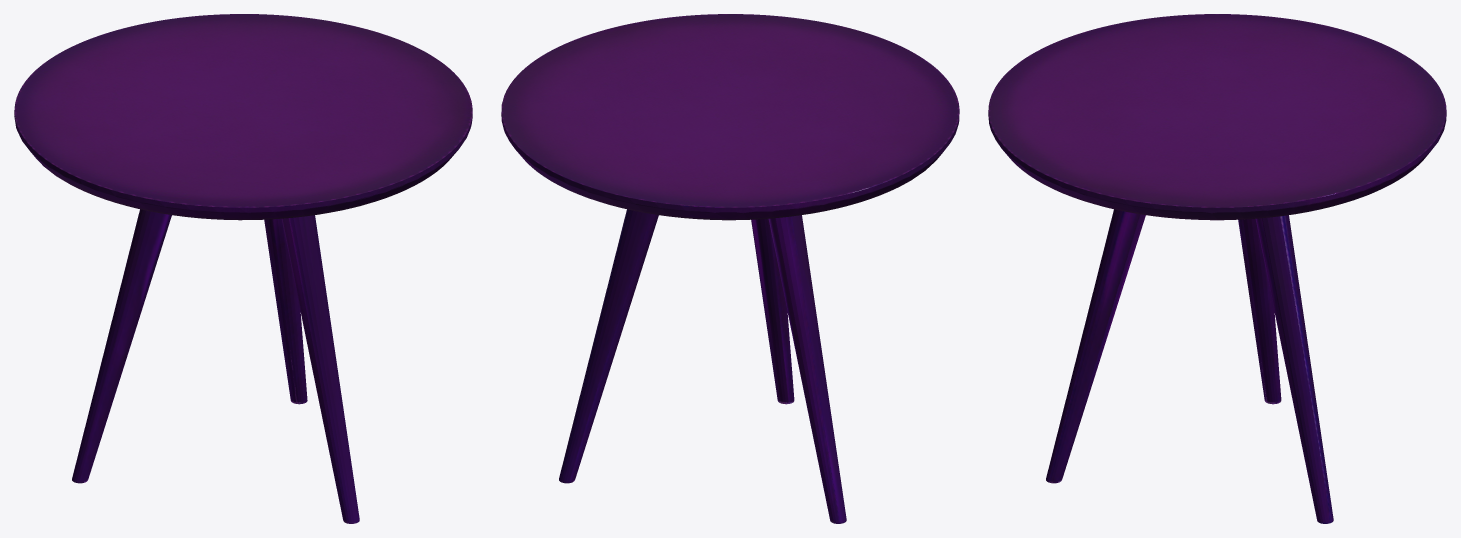
Rendered from edited_mesh.glb.
The picture shows the model from 3 angles, left to right: view 1: azimuth 30°, elevation 25°; view 2: azimuth 150°, elevation 25°; view 3: azimuth 270°, elevation 25°; orthographic projection.
Parts seen in each view (by area): view 1: normalized_model.obj; view 2: normalized_model.obj; view 3: normalized_model.obj.
Boxes of the visible parts, x1,y1,x2,y2 form: normalized_model.obj: (14, 14, 472, 523); normalized_model.obj: (501, 14, 959, 523); normalized_model.obj: (988, 14, 1446, 523).
Size of the model in its own units: 1.47 by 1.26 by 1.47.
1 material, 1 textured.
